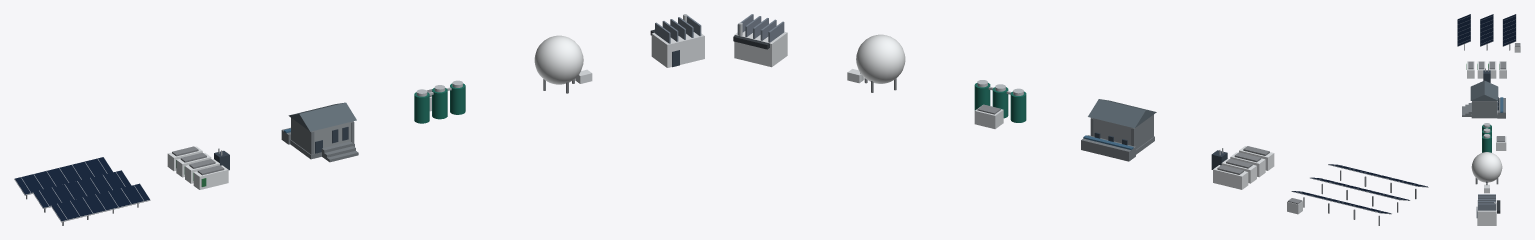
File: plants.glb
3 renders of one model, left to right at view 1: azimuth 30°, elevation 25°; view 2: azimuth 150°, elevation 25°; view 3: azimuth 270°, elevation 25°, orthographic. The views are drawn at different scales.
Visible parts, largest first — view 1: solar, hydro, fuelcell, h2tank, battery, electrolyzer; view 2: hydro, fuelcell, h2tank, battery, electrolyzer, solar; view 3: solar, hydro, h2tank, fuelcell, battery, electrolyzer.
Part boxes in pixels (x1,y1,x2,y2): solar: [14, 157, 150, 225]; hydro: [281, 102, 358, 162]; fuelcell: [650, 14, 704, 67]; h2tank: [534, 35, 592, 93]; battery: [167, 146, 229, 189]; electrolyzer: [414, 80, 465, 123]; hydro: [1081, 99, 1156, 161]; fuelcell: [733, 14, 787, 67]; h2tank: [847, 34, 905, 92]; battery: [1211, 146, 1274, 189]; electrolyzer: [974, 80, 1026, 128]; solar: [1287, 164, 1428, 225]; solar: [1457, 14, 1520, 52]; hydro: [1462, 80, 1505, 118]; h2tank: [1471, 152, 1502, 193]; fuelcell: [1476, 194, 1500, 225]; battery: [1466, 61, 1506, 82]; electrolyzer: [1482, 123, 1506, 152].
Size of the model in its own units: 77.45 by 5.5 by 10.3.
